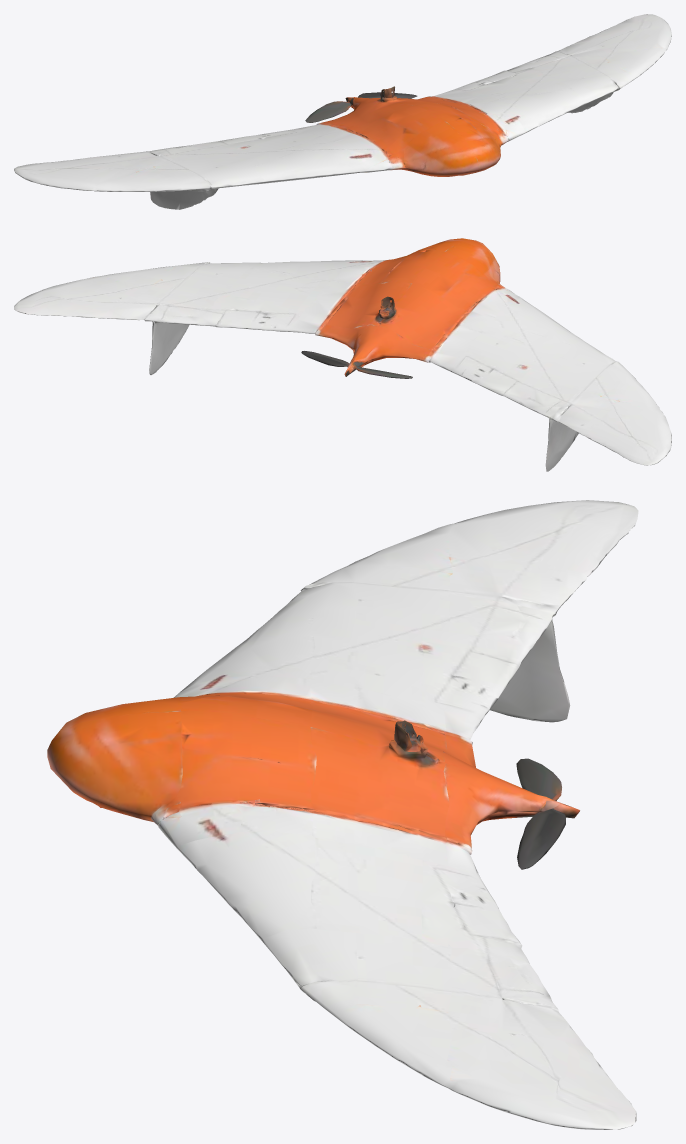
The model's file is technology-06.glb.
3 views of the same model, one above another, from view 1: azimuth 30°, elevation 25°; view 2: azimuth 150°, elevation 25°; view 3: azimuth 270°, elevation 25° (orthographic). The views are drawn at different scales.
Size of the model in its own units: 1.9 by 0.2889 by 0.7584.
Materials: 1 (1 with a texture image).
